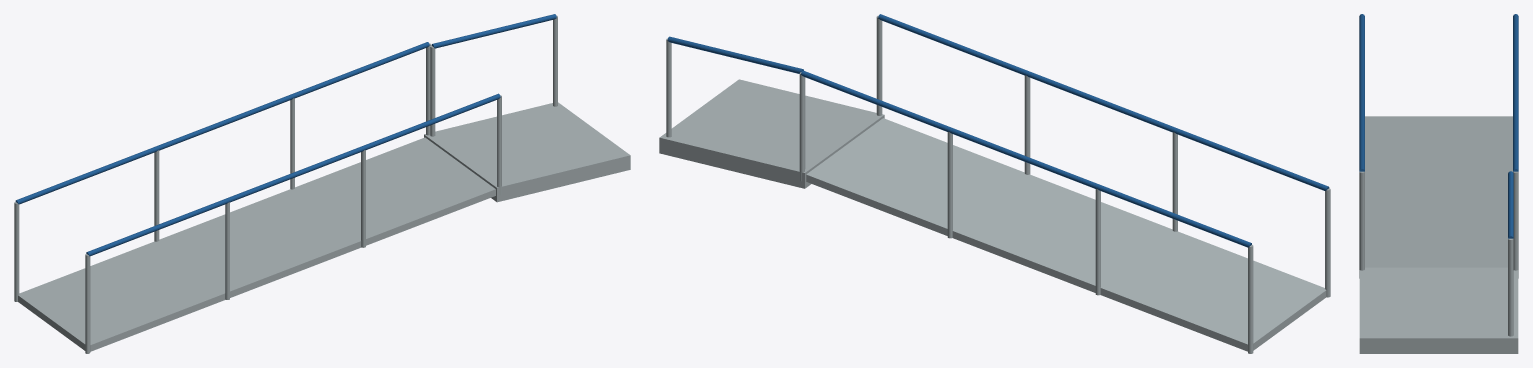
The model's file is scendance-plan-ramp-turning.glb.
3 renders of one model, left to right at view 1: azimuth 30°, elevation 25°; view 2: azimuth 150°, elevation 25°; view 3: azimuth 270°, elevation 25°, orthographic. The views are drawn at different scales.
Bounding box in the file's own units: 5.5 × 1.53 × 1.29.
